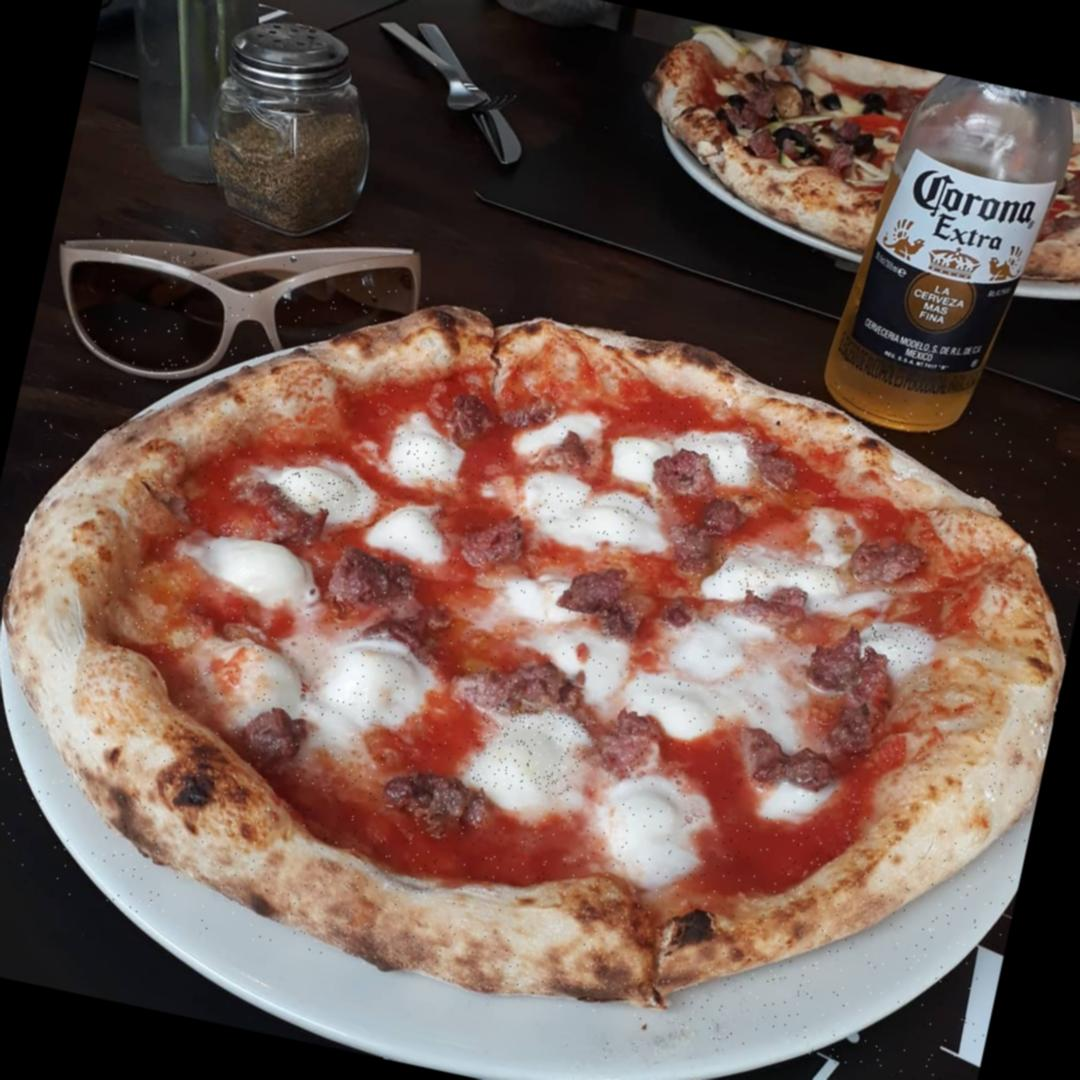Cheese: (297, 620, 415, 732), (468, 700, 588, 804), (714, 544, 840, 611), (206, 638, 308, 719), (209, 534, 317, 608), (527, 479, 649, 543), (605, 778, 687, 870), (670, 422, 762, 486), (628, 673, 731, 729), (276, 467, 371, 521), (678, 610, 749, 678), (540, 636, 624, 688), (391, 428, 459, 485), (371, 503, 444, 555), (610, 434, 674, 491), (864, 623, 929, 672)
Pizza: (0, 221, 1080, 1080)
